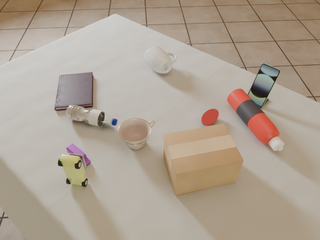book: (55, 72, 93, 111)
bottle: (227, 89, 284, 151), (66, 104, 117, 127)
box: (164, 124, 243, 195)
cup: (119, 118, 155, 149), (144, 46, 177, 74)
mouse: (202, 109, 219, 126)
phone: (247, 63, 281, 107)
toy_car: (58, 153, 88, 187), (67, 144, 91, 166)
